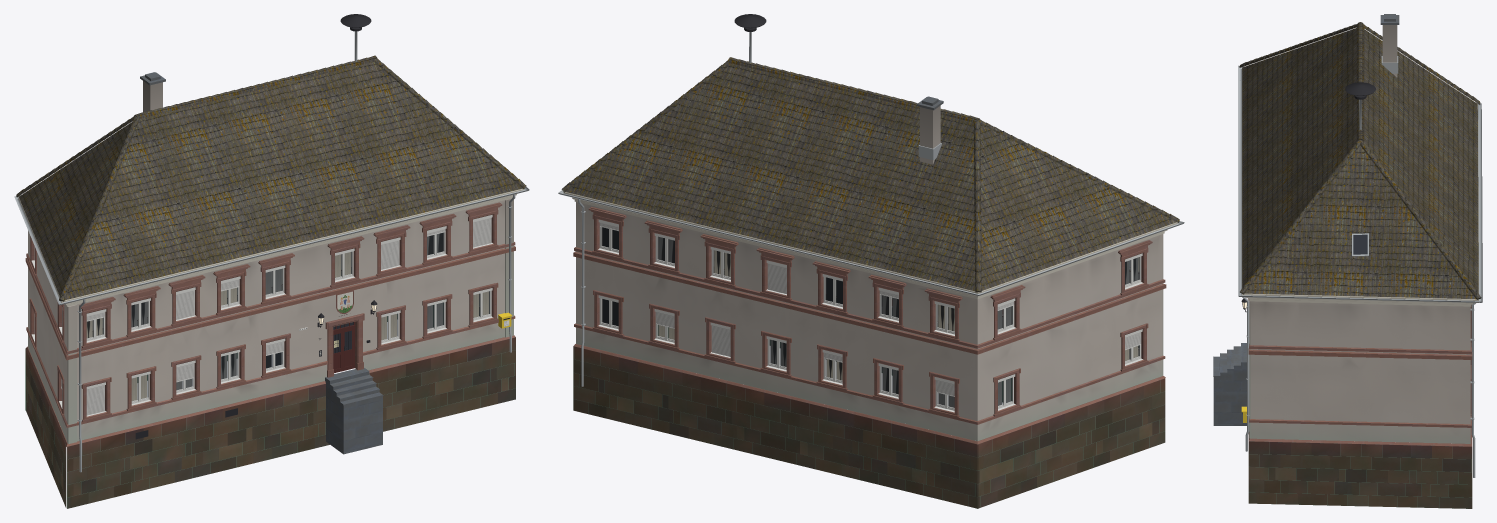
The model's file is rathaus.glb.
The picture shows the model from 3 angles, left to right: view 1: azimuth 30°, elevation 25°; view 2: azimuth 150°, elevation 25°; view 3: azimuth 270°, elevation 25°; orthographic projection. The views are drawn at different scales.
Parts seen in each view (by area): view 1: Rathaus_roof, Rathaus_red, Rathaus_plaster, Rathaus_granite, Rathaus_white, Rathaus_glass_win, Rathaus_paint, Rathaus_zinc, Rathaus_shutter, Rathaus_mortar, Rathaus_curtain_lit, Rathaus_curtain (+2 smaller); view 2: Rathaus_roof, Rathaus_red, Rathaus_plaster, Rathaus_white, Rathaus_glass_win, Rathaus_paint, Rathaus_mortar, Rathaus_zinc, Rathaus_shutter, Rathaus_curtain, Rathaus_curtain_lit, Rathaus_void; view 3: Rathaus_roof, Rathaus_plaster, Rathaus_red, Rathaus_zinc, Rathaus_granite, Rathaus_paint, Rathaus_mortar, Rathaus_iron.
Boxes of the visible parts, x1=… form: Rathaus_roof: x1=16, y1=55, x2=526, y2=301; Rathaus_red: x1=25, y1=202, x2=515, y2=508; Rathaus_plaster: x1=28, y1=81, x2=513, y2=443; Rathaus_granite: x1=140, y1=72, x2=383, y2=454; Rathaus_white: x1=31, y1=215, x2=492, y2=416; Rathaus_glass_win: x1=86, y1=232, x2=489, y2=400; Rathaus_paint: x1=18, y1=188, x2=524, y2=339; Rathaus_zinc: x1=14, y1=31, x2=529, y2=472; Rathaus_shutter: x1=61, y1=217, x2=491, y2=415; Rathaus_mortar: x1=25, y1=269, x2=515, y2=508; Rathaus_curtain_lit: x1=86, y1=252, x2=488, y2=400; Rathaus_curtain: x1=131, y1=233, x2=442, y2=389; Rathaus_roof: x1=561, y1=57, x2=1179, y2=292; Rathaus_red: x1=573, y1=207, x2=1166, y2=508; Rathaus_plaster: x1=576, y1=105, x2=1163, y2=441; Rathaus_white: x1=598, y1=219, x2=1143, y2=412; Rathaus_glass_win: x1=601, y1=227, x2=1139, y2=407; Rathaus_paint: x1=563, y1=192, x2=1178, y2=299; Rathaus_mortar: x1=573, y1=268, x2=1164, y2=507; Rathaus_zinc: x1=558, y1=32, x2=1184, y2=386; Rathaus_shutter: x1=599, y1=222, x2=1141, y2=395; Rathaus_curtain: x1=658, y1=237, x2=1138, y2=407; Rathaus_curtain_lit: x1=658, y1=250, x2=1139, y2=380; Rathaus_void: x1=602, y1=227, x2=1139, y2=347; Rathaus_roof: x1=1239, y1=22, x2=1481, y2=299; Rathaus_plaster: x1=1249, y1=25, x2=1470, y2=443; Rathaus_red: x1=1246, y1=297, x2=1472, y2=508; Rathaus_zinc: x1=1238, y1=56, x2=1482, y2=477; Rathaus_granite: x1=1213, y1=14, x2=1399, y2=425; Rathaus_paint: x1=1242, y1=68, x2=1478, y2=306; Rathaus_mortar: x1=1249, y1=441, x2=1471, y2=508; Rathaus_iron: x1=1241, y1=82, x2=1375, y2=413.
Bounding box in the file's own units: 23.7 × 17.24 × 11.45.
19 materials, 9 textured.
